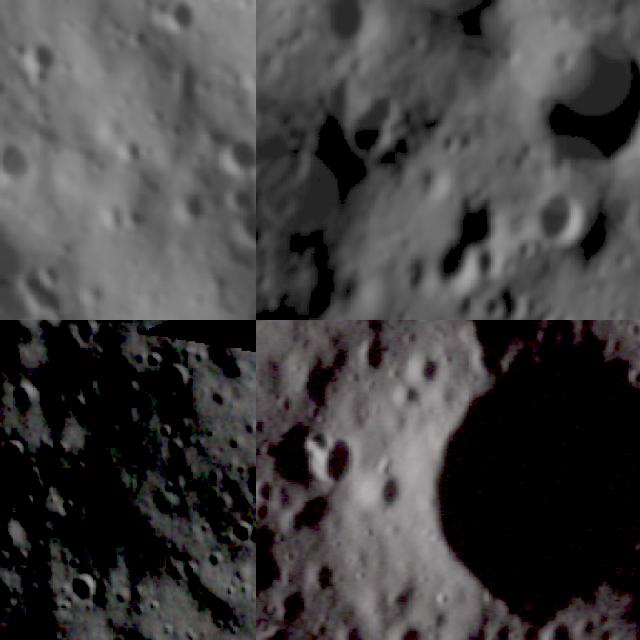crater: (261, 320, 640, 640), (533, 19, 640, 170), (427, 186, 509, 298), (333, 78, 408, 172), (256, 514, 313, 619), (298, 421, 373, 497), (342, 453, 418, 528), (527, 183, 589, 251), (396, 334, 456, 398), (256, 284, 356, 320), (342, 331, 396, 386), (5, 266, 68, 311), (380, 368, 432, 422), (315, 0, 380, 43), (428, 612, 517, 640), (22, 35, 56, 103), (210, 136, 256, 178), (621, 171, 640, 255), (1, 434, 38, 472), (56, 574, 94, 610), (271, 320, 336, 339), (0, 141, 26, 185), (162, 1, 191, 36), (10, 384, 44, 409), (234, 515, 256, 549)
